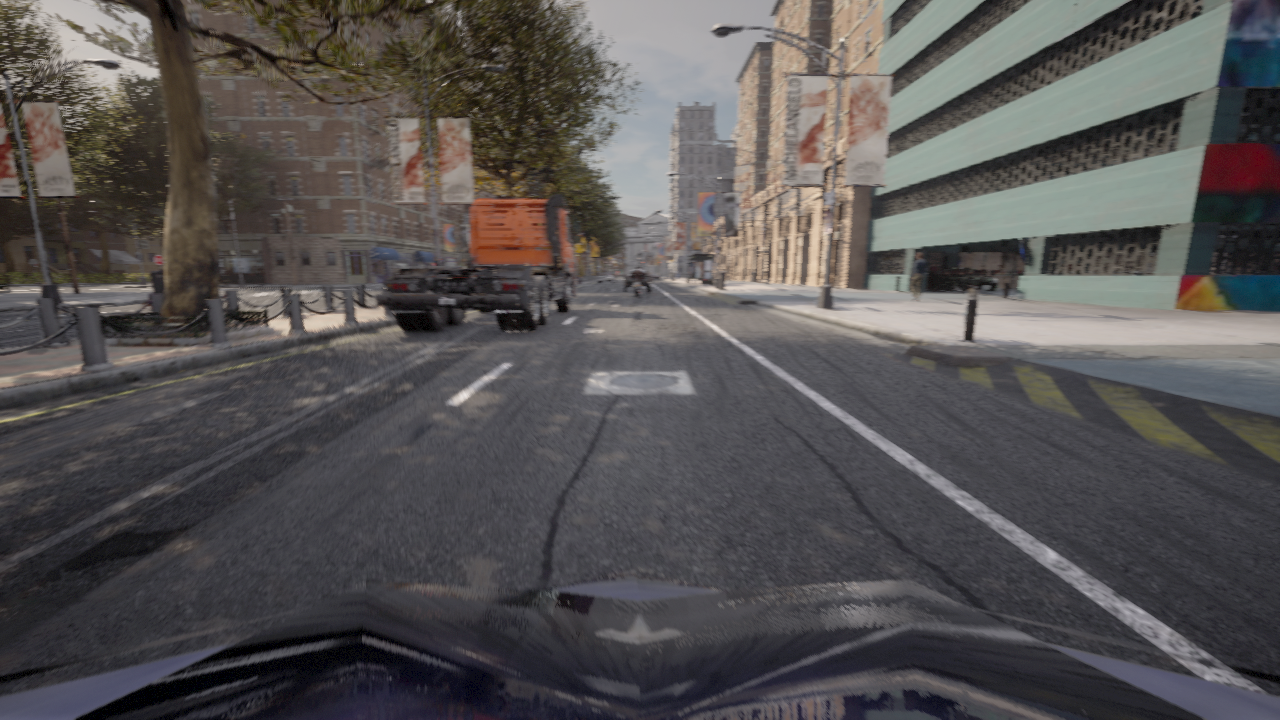cyclist: (0, 569, 1279, 719), (376, 193, 581, 331), (936, 267, 998, 291), (621, 268, 653, 292), (1250, 263, 1279, 274), (597, 272, 614, 283), (604, 270, 616, 282), (634, 280, 642, 296), (1134, 269, 1151, 274), (651, 273, 660, 279)
pedestrian: (910, 253, 927, 301)
